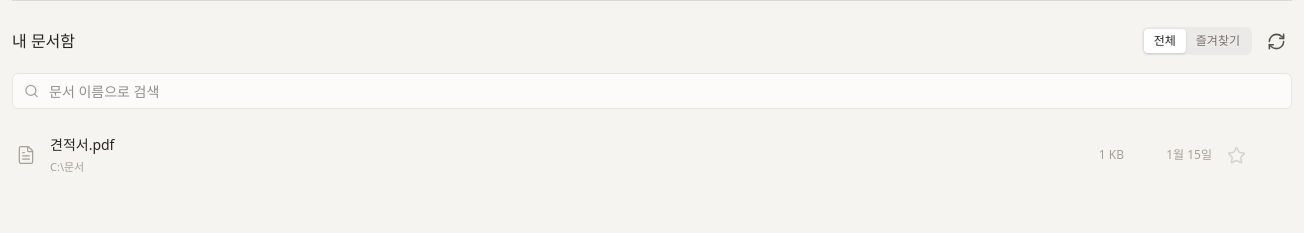
Test: keeps the existing document list usable after refresh fails and recovers on retry
Expected: the text "견적서.pdf" is shown, x1=50 y1=135 x2=114 y2=154
Click the button named "문서함 새로고침" at (1276, 41), box x1=1260 y1=25 x2=1292 y2=57
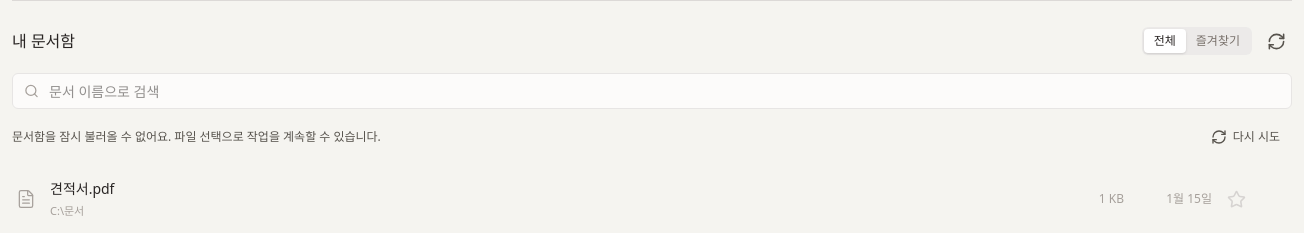
Expected: the text "견적서.pdf" is shown, x1=50 y1=179 x2=114 y2=198
Now the message shows "파일 선택으로 작업을 계속", box x1=12 y1=128 x2=381 y2=145
Click the button "다시 시도" at (1245, 137), box x1=1199 y1=121 x2=1292 y2=153
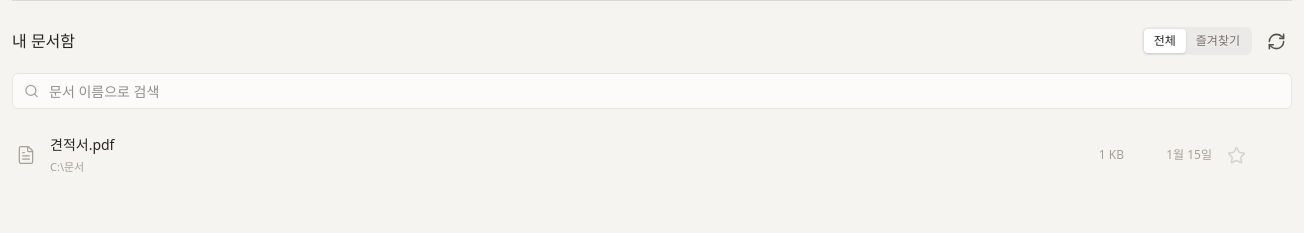
Expected: the text "견적서.pdf" is shown, x1=50 y1=135 x2=114 y2=154
Now the message "문서함을 잠시 불러올 수 없어요. 파일 선택으로 작업을 계속할 수 있습니다. 다시 시도" is gone
